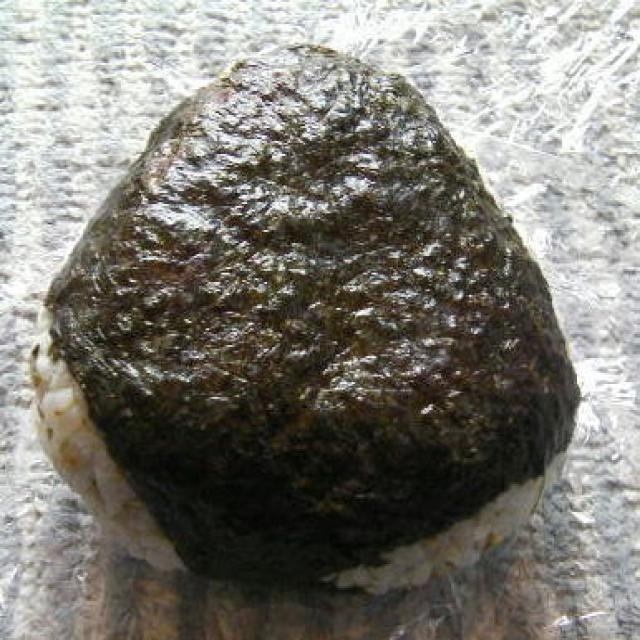米饭主食: (13, 41, 600, 625)
